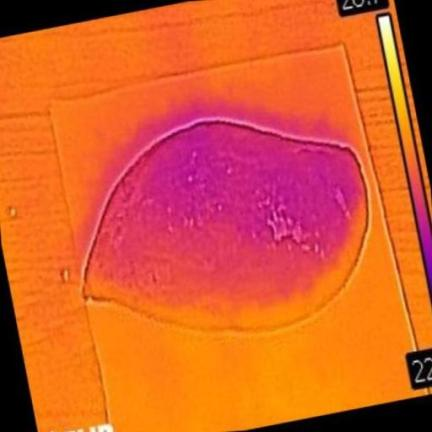mango: (83, 121, 367, 329)
